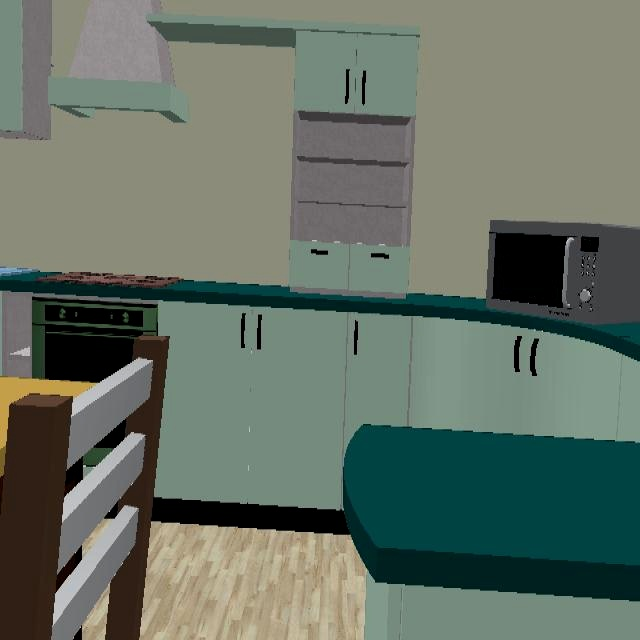cabinet: (152, 301, 640, 511), (147, 13, 419, 300), (364, 573, 640, 640), (0, 291, 33, 380)
chair: (0, 336, 170, 640)
countertop: (0, 268, 640, 363), (342, 425, 640, 601)
microwave: (487, 220, 640, 325)
oven: (33, 297, 158, 383), (83, 421, 126, 468)
table: (0, 377, 96, 477)
